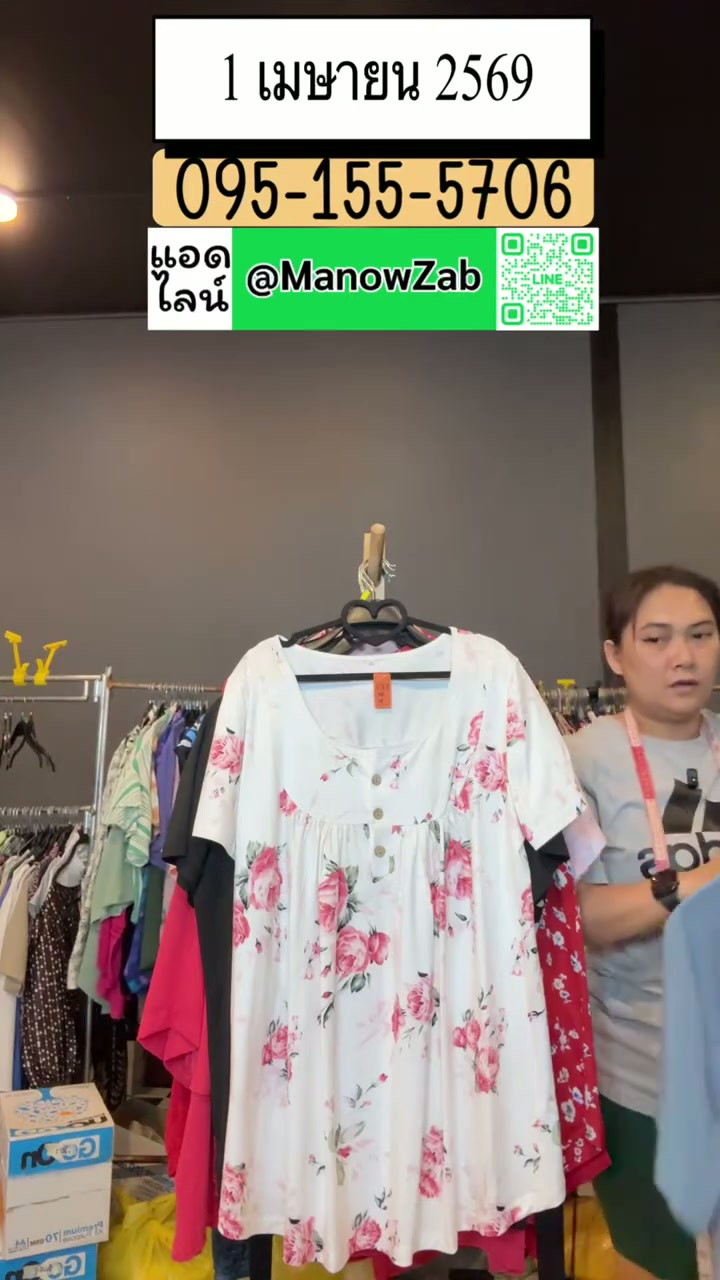display_shirt: (193, 629, 584, 1271)
